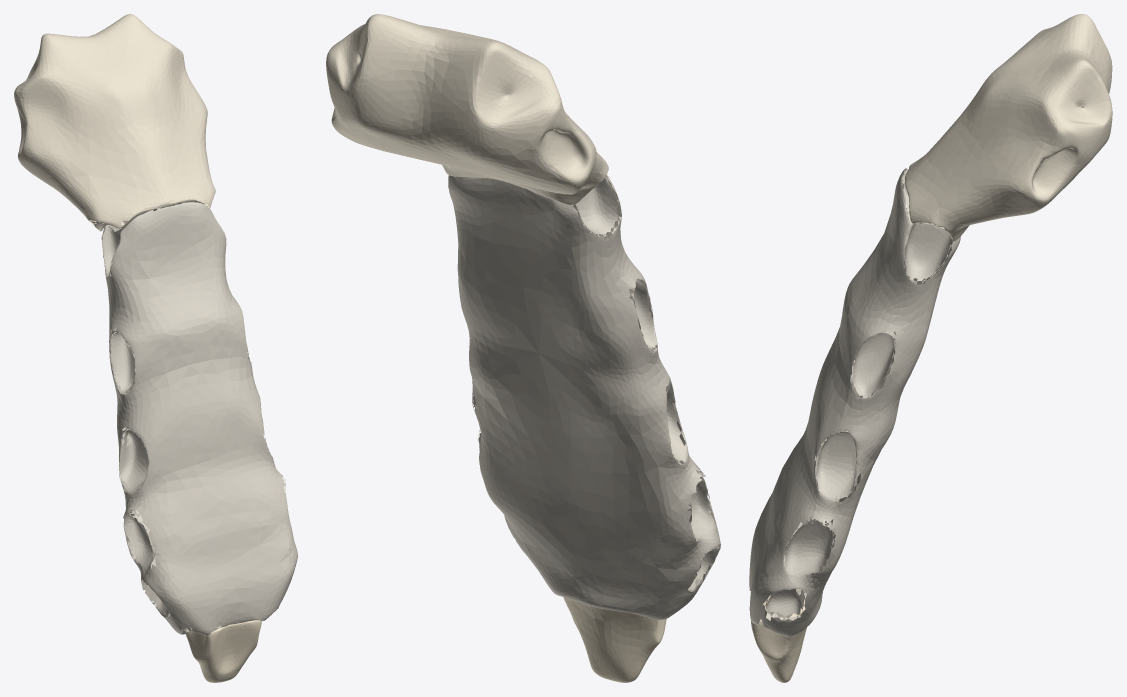
Rendered from sterno.glb.
3 views of the same model, side by side, from view 1: azimuth 30°, elevation 25°; view 2: azimuth 150°, elevation 25°; view 3: azimuth 270°, elevation 25° (orthographic). The views are drawn at different scales.
Parts seen in each view (by area): view 1: body of sternum, manubrium, xiphoid process; view 2: body of sternum, manubrium, xiphoid process; view 3: body of sternum, manubrium, xiphoid process.
Boxes of the visible parts, x1,y1,x2,y2 form: body of sternum: (101, 202, 297, 635); manubrium: (14, 14, 215, 231); xiphoid process: (185, 620, 261, 682); body of sternum: (448, 175, 720, 619); manubrium: (326, 14, 608, 205); xiphoid process: (563, 597, 666, 682); body of sternum: (749, 168, 960, 637); manubrium: (904, 14, 1112, 241); xiphoid process: (751, 589, 806, 682).
Size of the model in its own units: 54.66 by 161 by 82.67.
